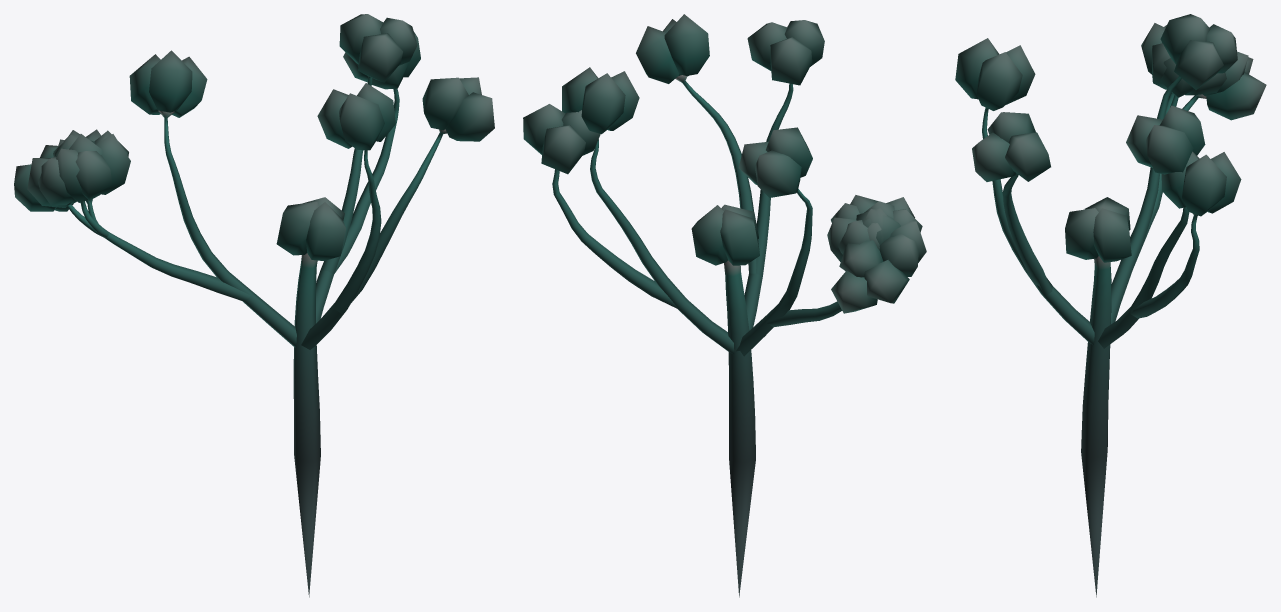
Rendered from plants-flowers-teal-cluster-flower_v1.glb.
3 renders of one model, left to right at view 1: azimuth 30°, elevation 25°; view 2: azimuth 150°, elevation 25°; view 3: azimuth 270°, elevation 25°, orthographic. The views are drawn at different scales.
Parts seen in each view (by area): view 1: Teal Cluster Flower_v1; view 2: Teal Cluster Flower_v1; view 3: Teal Cluster Flower_v1.
Part boxes in pixels (x1,y1,x2,y2): Teal Cluster Flower_v1: [14, 14, 494, 597]; Teal Cluster Flower_v1: [523, 14, 926, 597]; Teal Cluster Flower_v1: [955, 14, 1266, 597].
Bounding box in the file's own units: 0.4516 × 0.6 × 0.3058.
